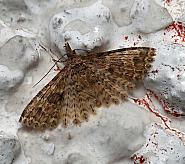Alucitidae: (15, 36, 159, 132)
moth: (13, 34, 157, 130)
